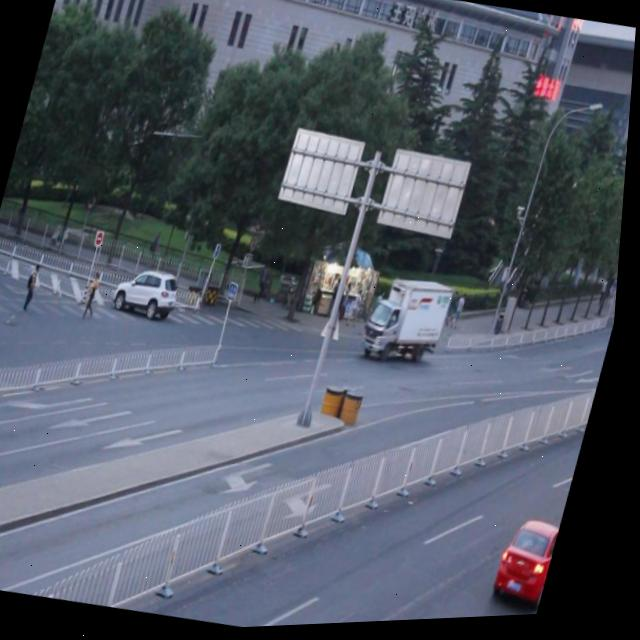bus: (362, 275, 459, 376)
car: (496, 512, 571, 613), (112, 261, 188, 322)
